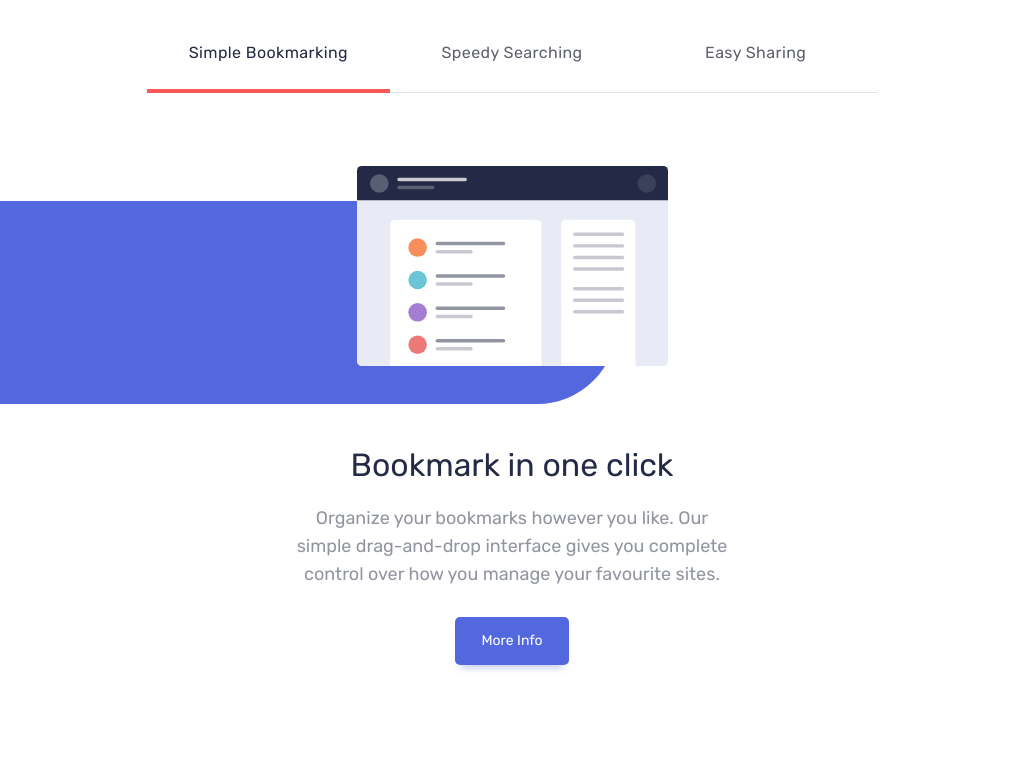
FeatureTabs › switches the panel content when a tab is clicked
What coordinates should you click on to do the following:
click the tab "Easy Sharing"
I would click on:
 (756, 52)
Its box is [634,12,878,92].
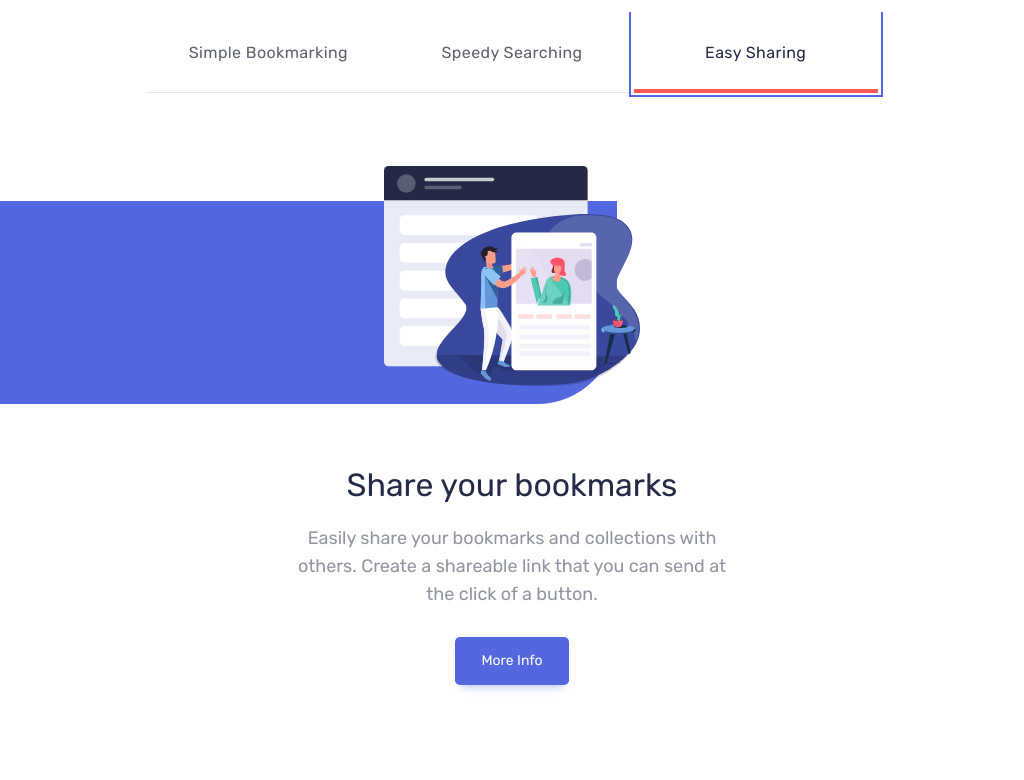
Expected: the heading "Share your bookmarks" is shown, [347,466,678,504]
